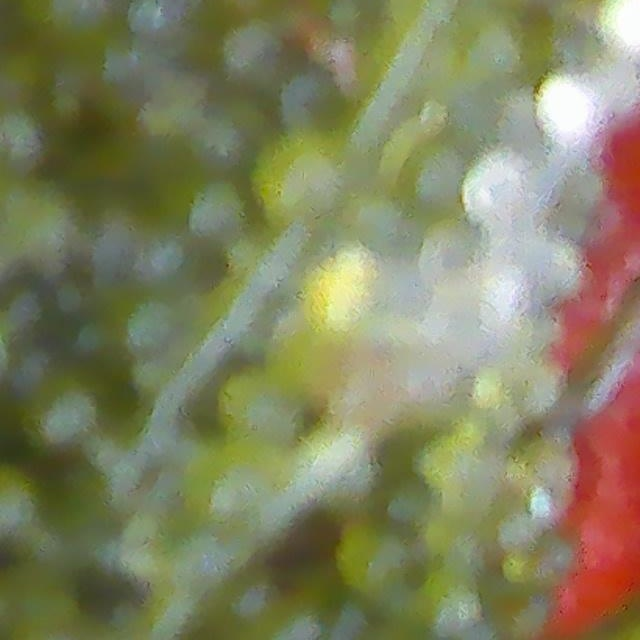SeaGrape: (242, 117, 357, 232), (0, 175, 91, 275), (331, 518, 424, 612), (19, 370, 108, 455), (190, 89, 274, 176), (169, 169, 255, 249), (340, 181, 422, 264), (212, 10, 294, 93), (219, 372, 301, 453), (460, 7, 532, 88), (397, 137, 469, 218), (409, 564, 485, 639), (527, 69, 599, 146), (464, 151, 541, 223), (415, 215, 487, 289), (186, 444, 252, 524), (0, 97, 54, 179), (476, 245, 529, 307), (125, 0, 192, 48), (604, 53, 640, 109)
